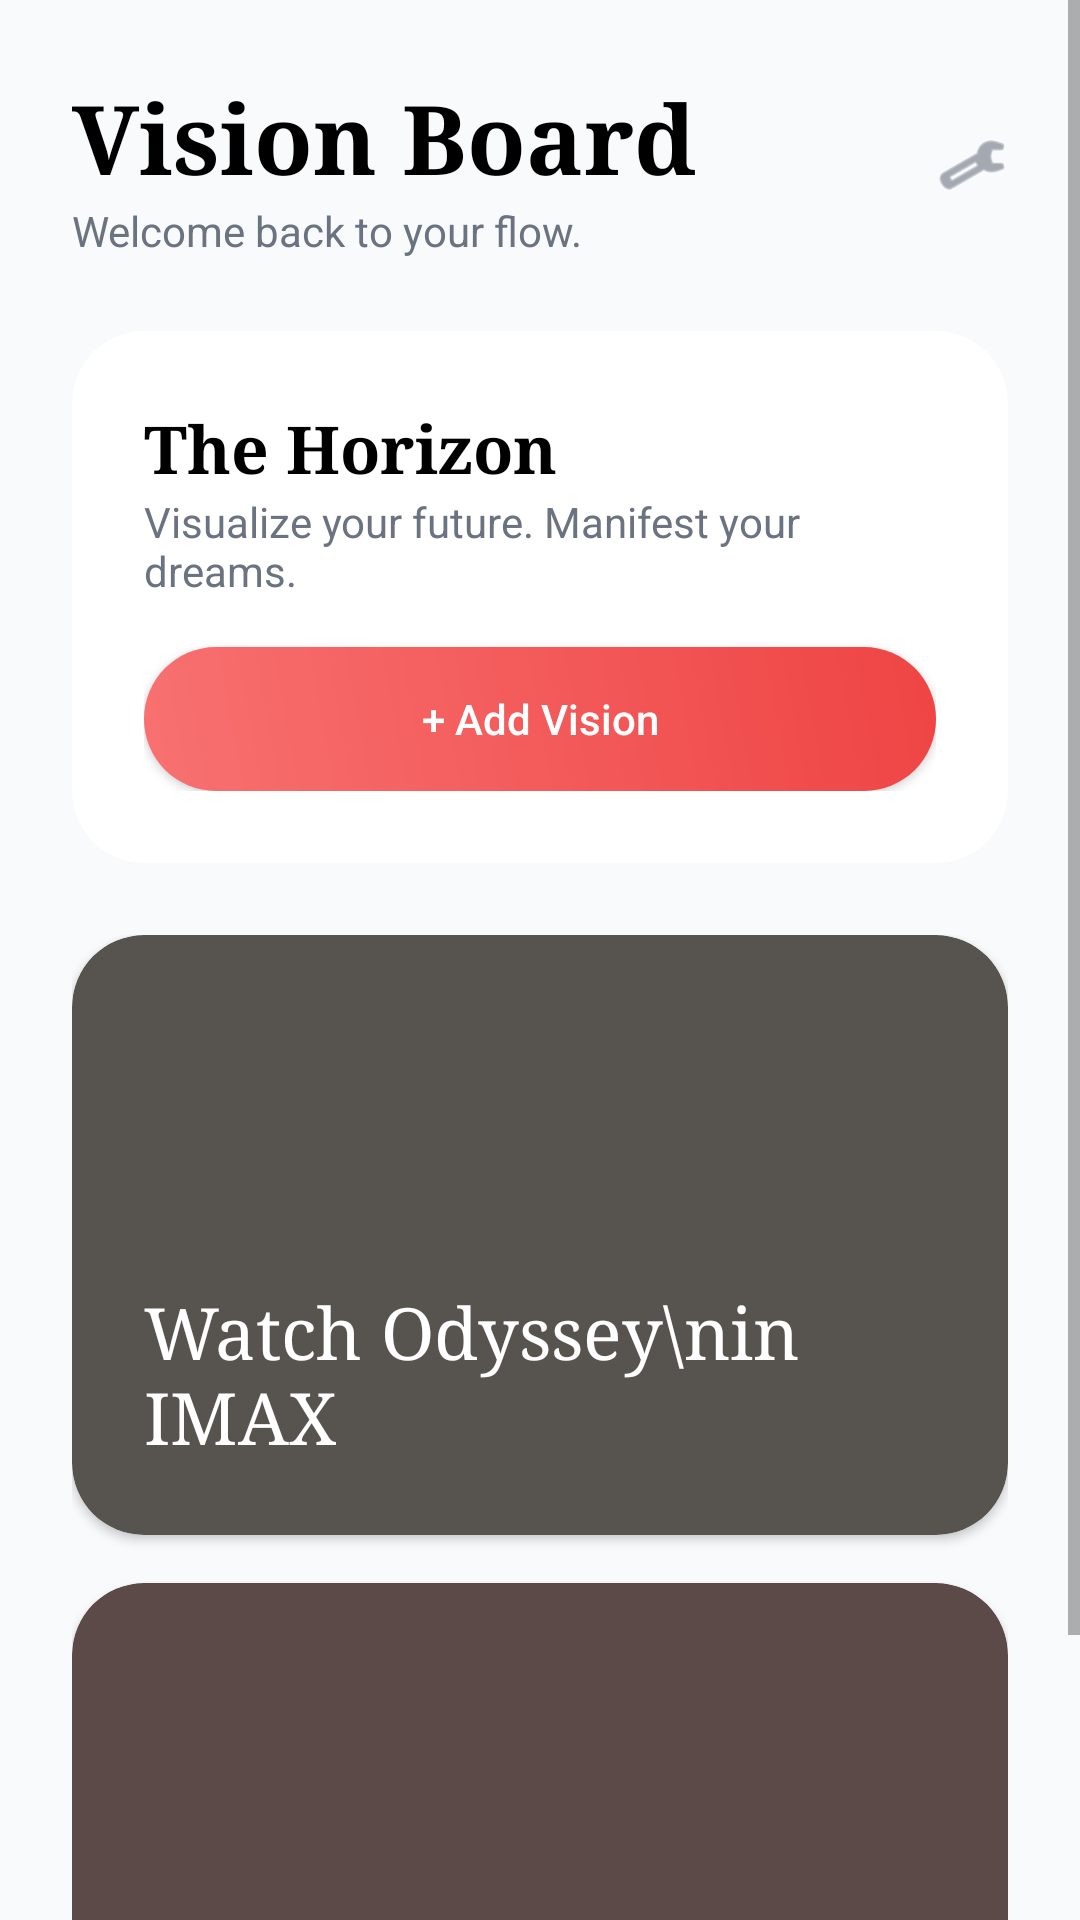

Icons on this 1080w x 1920h Android screen, each with its box as (x1, y1, x2, y2):
preferences: (940, 140, 1004, 190)
